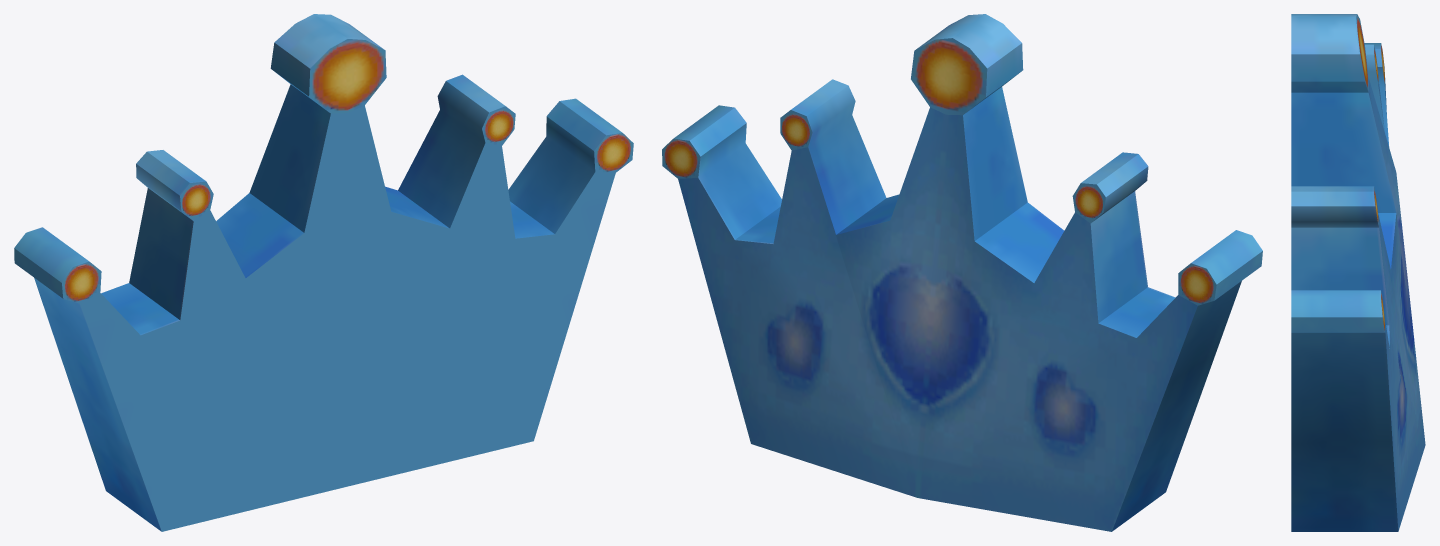
Rendered from furni_0200139_03.FBX.
3 renders of one model, left to right at view 1: azimuth 30°, elevation 25°; view 2: azimuth 150°, elevation 25°; view 3: azimuth 270°, elevation 25°, orthographic. The views are drawn at different scales.
Parts seen in each view (by area): view 1: furni_0200139_03; view 2: furni_0200139_03; view 3: furni_0200139_03.
Boxes of the visible parts, x1=… form: furni_0200139_03: x1=14, y1=14, x2=633, y2=531; furni_0200139_03: x1=662, y1=14, x2=1262, y2=531; furni_0200139_03: x1=1291, y1=14, x2=1425, y2=531.
Bounding box in the file's own units: 66.24 × 49.55 × 14.07.
